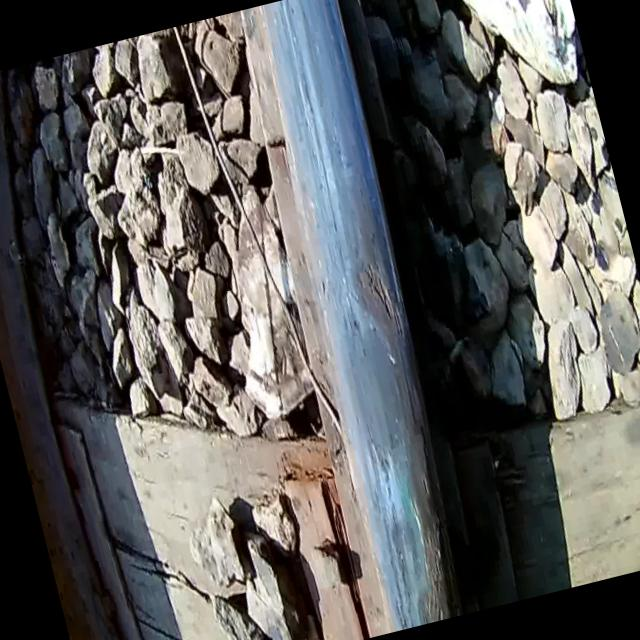Squats: (213, 0, 508, 637)
